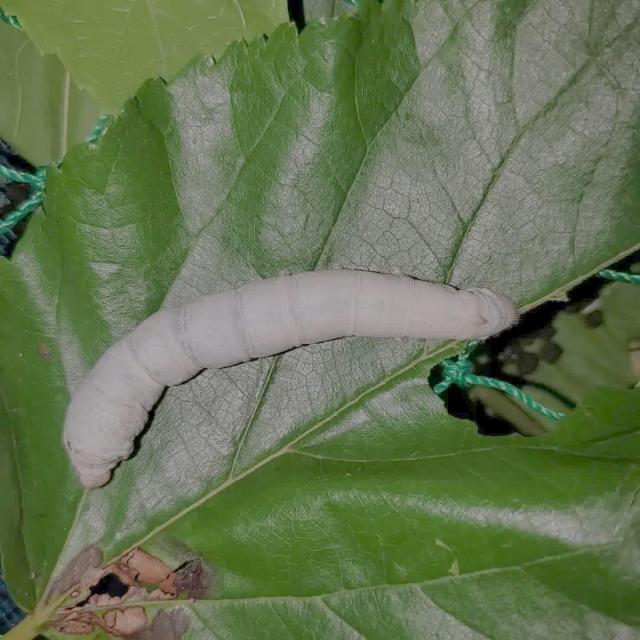Healthy: (52, 258, 521, 497)
